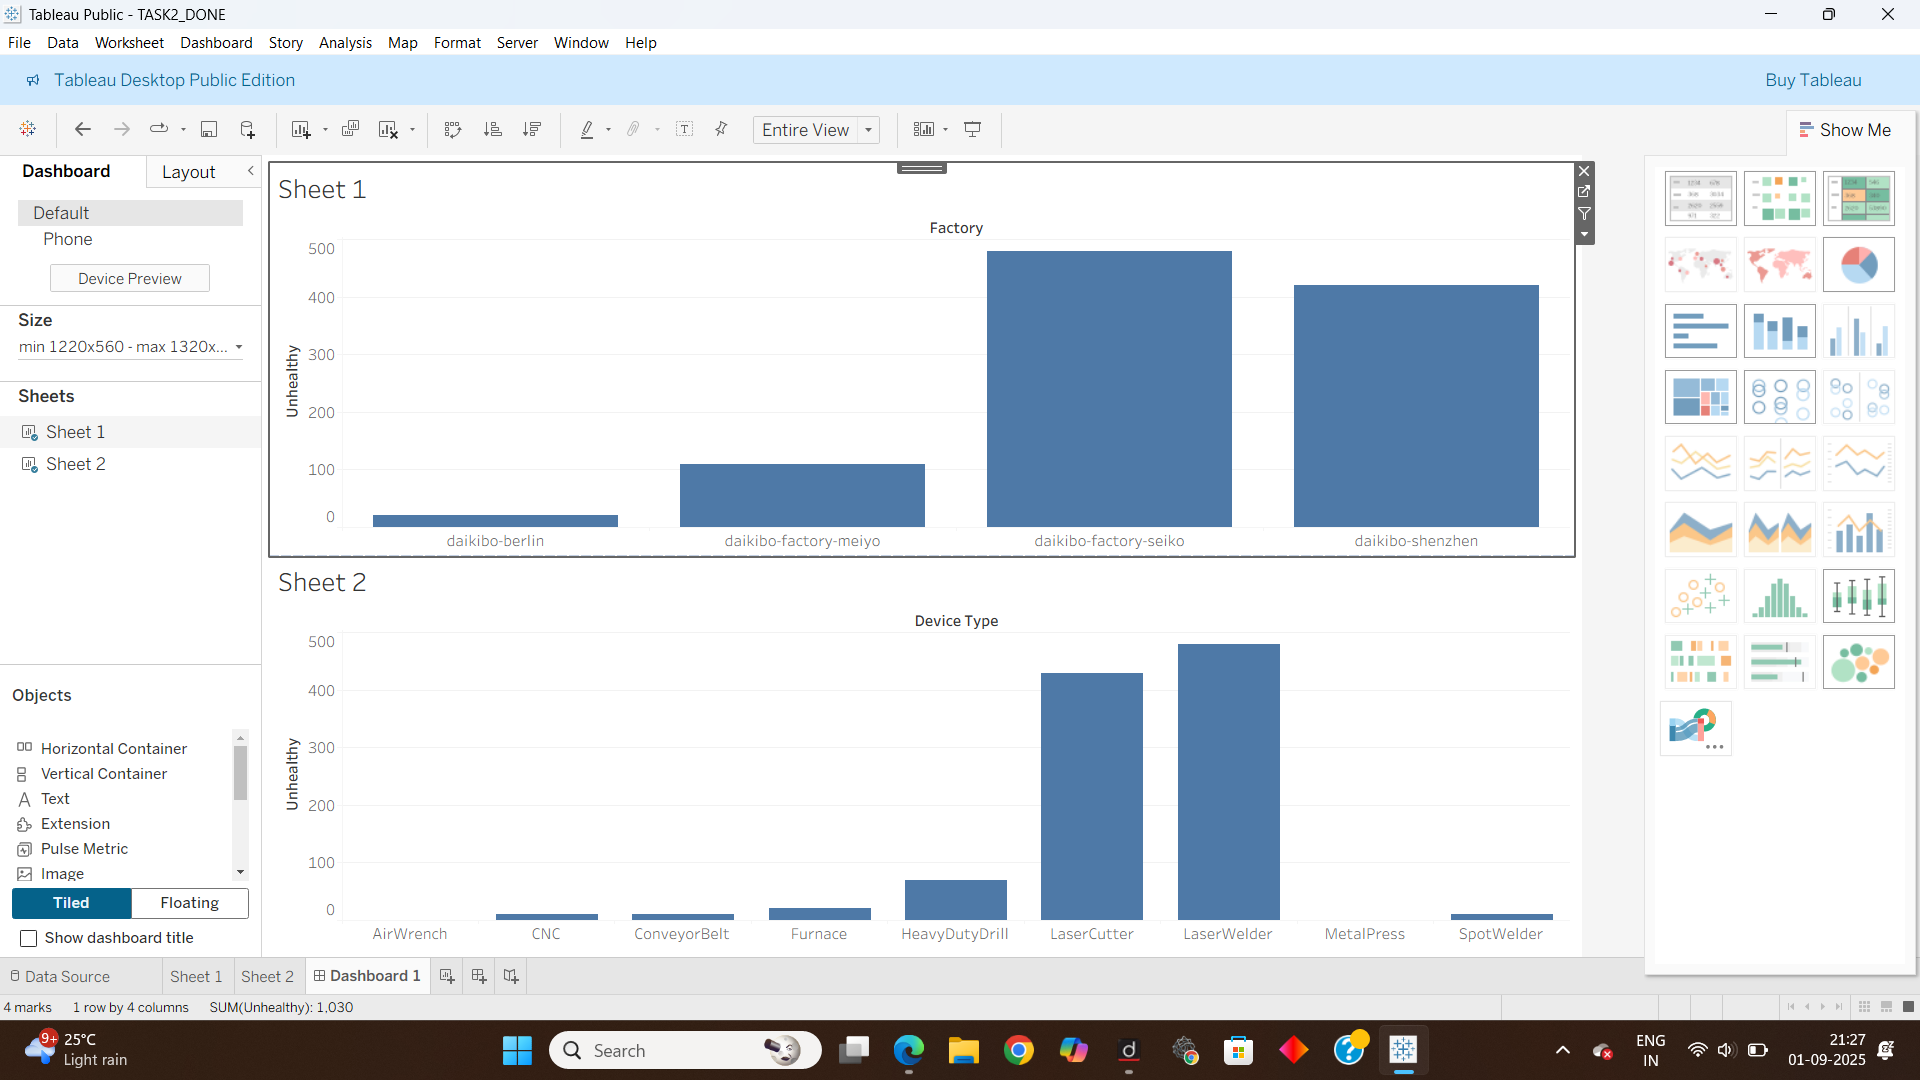

The dashboard page shown, as its layout file describes it:
{"tool":"tableau","page":{"name":"Dashboard 1","canvas":[1000,1000],"units":"permille","ordinal":0},"visuals":[{"type":"worksheet","title":"Sheet 1","mark":"Automatic","rows":["Calculation_1582733842449453056"],"cols":["factory"],"box":[6.1,10,987.9,490]},{"type":"worksheet","title":"Sheet 2","mark":"Automatic","rows":["Calculation_1582733842449453056"],"cols":["deviceType"],"box":[6.1,500,987.9,490]}]}

Visuals, with their boxes on the dashboard's canvas, which has no fixed pixel size, in thousandths of its width and height (x1, y1, x2, y2). These are canvas units, not pixel positions in the 1920x1080 screenshot, which may show the page scaled, cropped or inside an application window:
"Sheet 1" worksheet: 6:10:994:500
"Sheet 2" worksheet: 6:500:994:990
